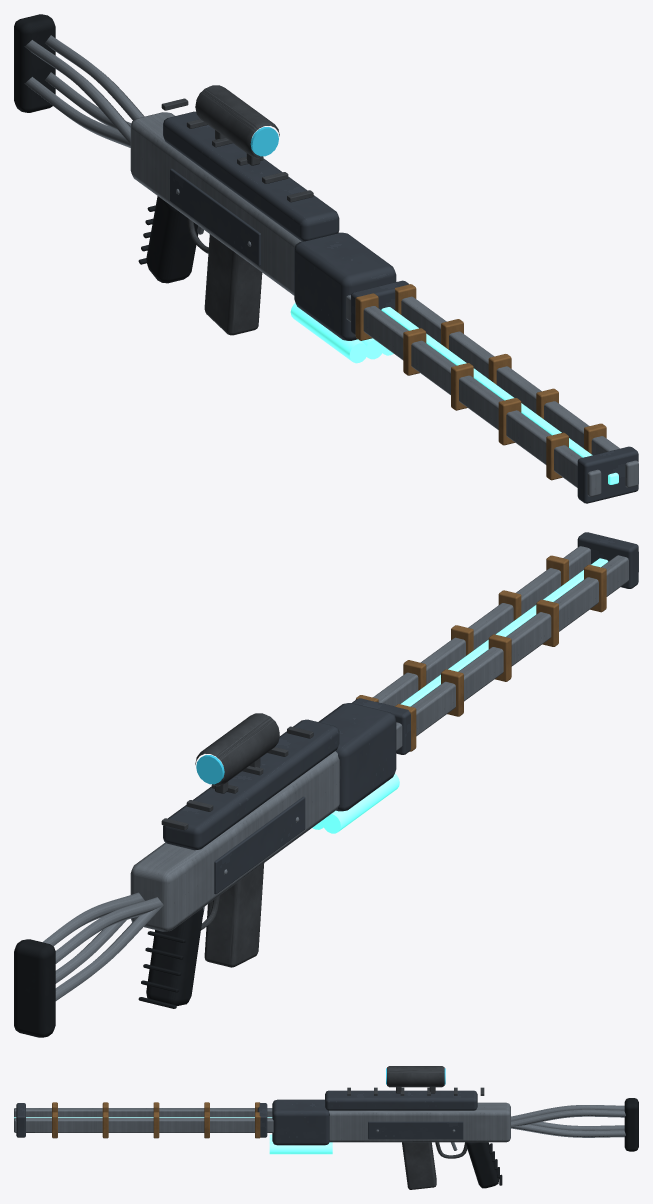
The model's file is railgun.lod1.glb.
3 views of the same model, one above another, from view 1: azimuth 30°, elevation 25°; view 2: azimuth 150°, elevation 25°; view 3: azimuth 270°, elevation 25° (orthographic). The views are drawn at different scales.
Parts seen in each view (by area): view 1: alloy / machined anodized alloy, ceramic / ceramic composite panel, darksteel / oil-blackened fittings, polymer / stippled polymer, bronze / cast bronze with patina, energy / emissive field channel; view 2: alloy / machined anodized alloy, ceramic / ceramic composite panel, darksteel / oil-blackened fittings, polymer / stippled polymer, bronze / cast bronze with patina, energy / emissive field channel; view 3: alloy / machined anodized alloy, ceramic / ceramic composite panel, darksteel / oil-blackened fittings, polymer / stippled polymer, bronze / cast bronze with patina, energy / emissive field channel.
Boxes of the visible parts, <box> form: alloy / machined anodized alloy: <box>24,35,638,496</box>; ceramic / ceramic composite panel: <box>163,111,638,503</box>; darksteel / oil-blackened fittings: <box>161,85,313,335</box>; polymer / stippled polymer: <box>14,14,198,283</box>; bronze / cast bronze with patina: <box>355,284,606,480</box>; energy / emissive field channel: <box>290,303,618,484</box>; alloy / machined anodized alloy: <box>42,546,638,1000</box>; ceramic / ceramic composite panel: <box>163,532,638,894</box>; darksteel / oil-blackened fittings: <box>161,713,313,967</box>; polymer / stippled polymer: <box>14,908,203,1037</box>; bronze / cast bronze with patina: <box>355,555,606,751</box>; energy / emissive field channel: <box>312,558,608,833</box>; alloy / machined anodized alloy: <box>14,1102,625,1150</box>; ceramic / ceramic composite panel: <box>16,1090,477,1145</box>; darksteel / oil-blackened fittings: <box>347,1066,484,1189</box>; polymer / stippled polymer: <box>466,1098,638,1188</box>; bronze / cast bronze with patina: <box>52,1102,260,1138</box>; energy / emissive field channel: <box>14,1117,332,1154</box>.
Size of the model in its own units: 0.072 by 0.2744 by 1.29.
7 materials, 5 textured.
